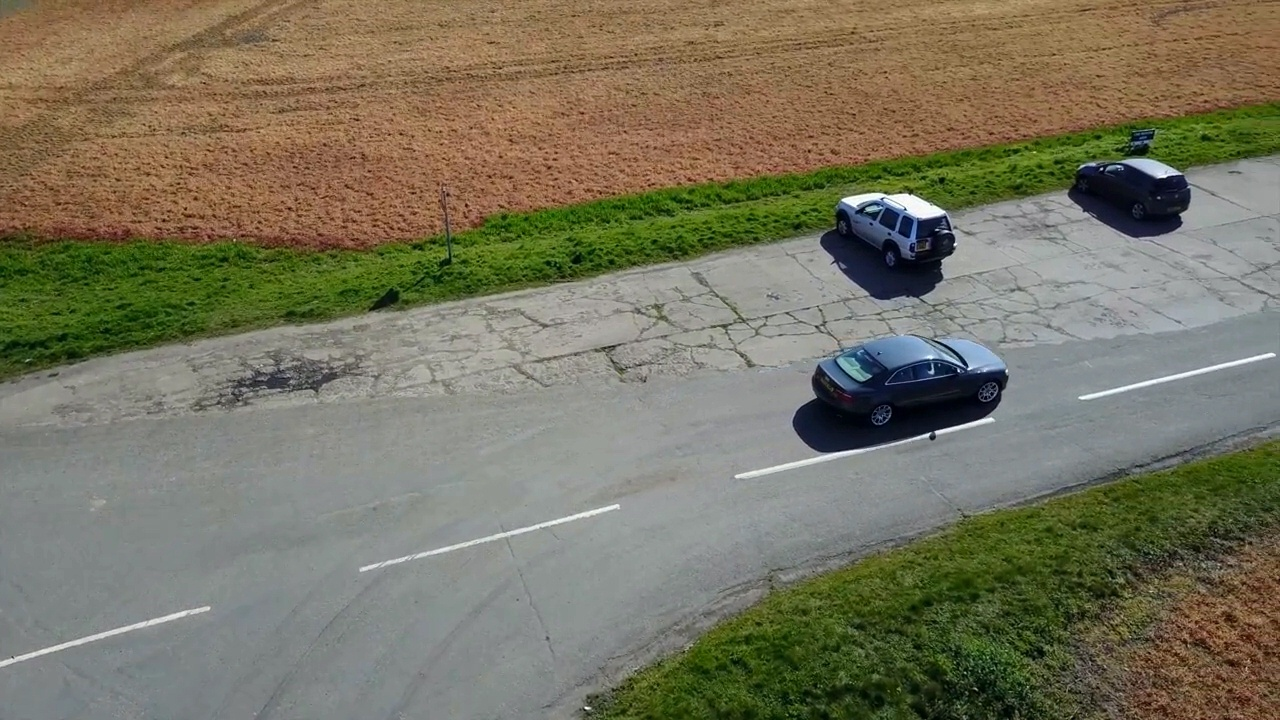araba: (806, 329, 1016, 426), (833, 188, 957, 270), (1071, 153, 1196, 228)
